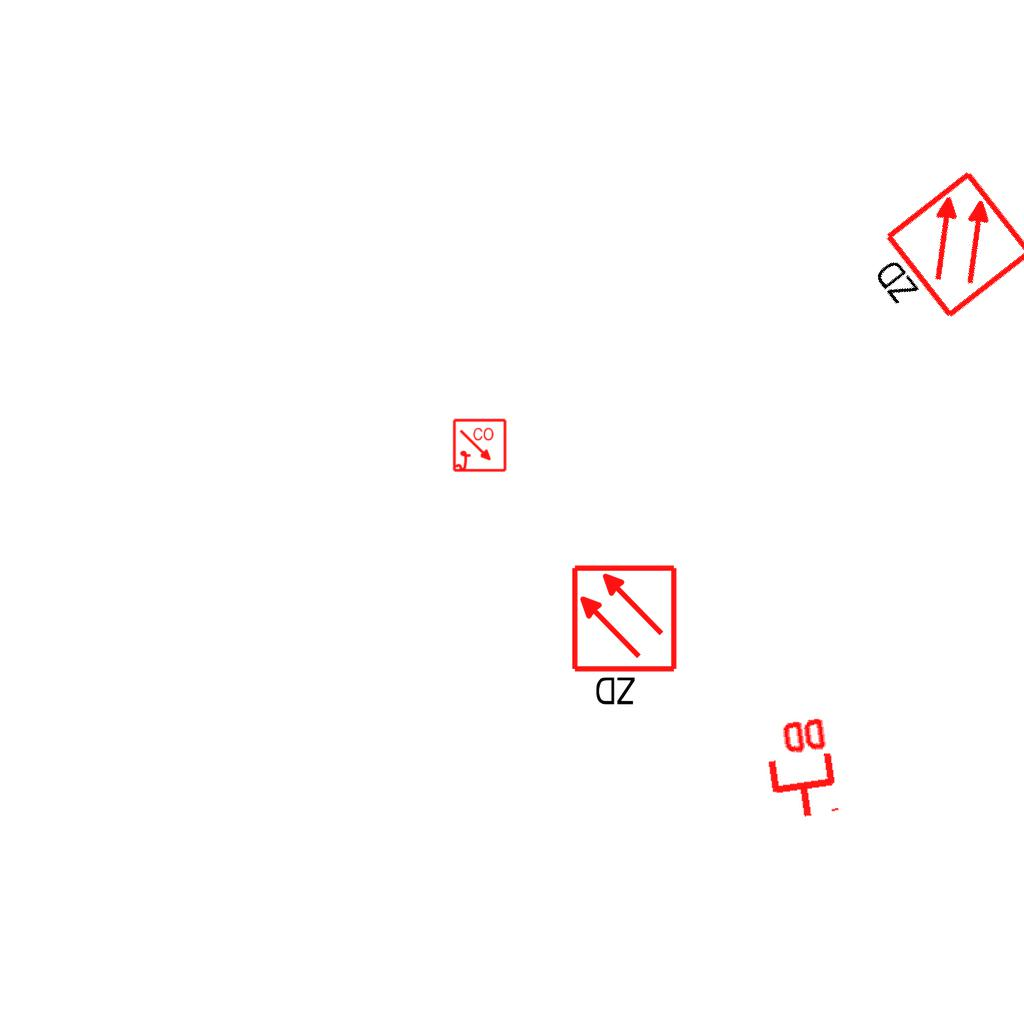Datenanschluss_zweifach: (758, 712, 841, 825)
ROA_Rauchmelder_optisch_mit_Signalgeber_(Sockelsirene): (451, 417, 509, 475)
ZD_Melder_in_Zwischendecke_mit_Revisionsoeffnung_mind_40_x_40_cm: (851, 166, 1024, 349), (569, 563, 683, 712)
